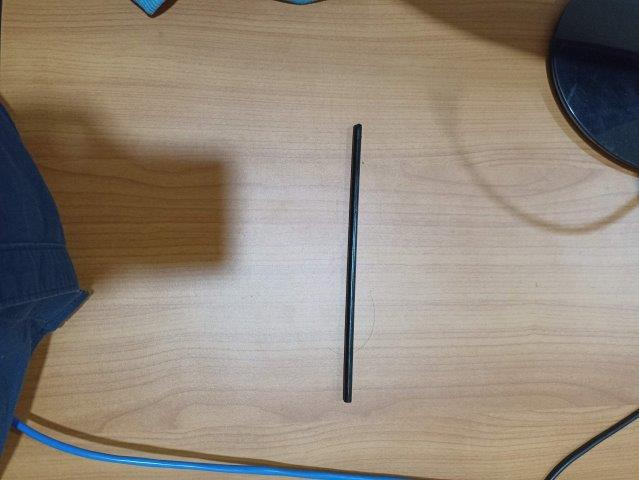sedotan: (343, 123, 362, 402)
